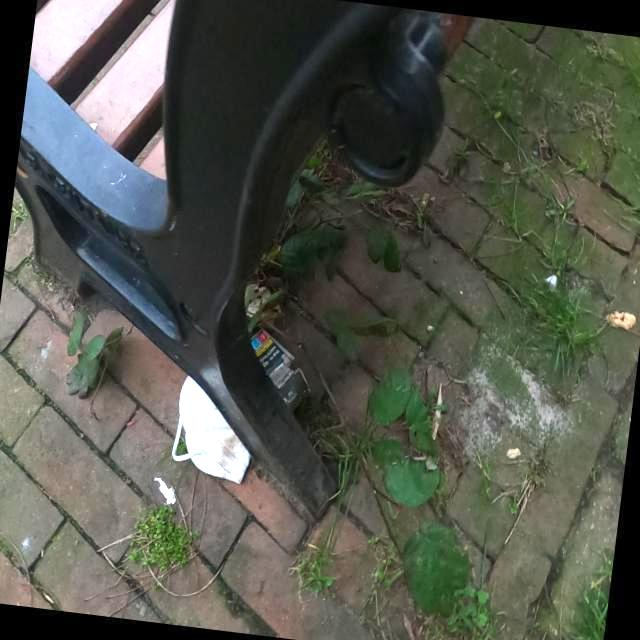Mask: (172, 374, 252, 484)
Paper: (248, 324, 312, 414)
